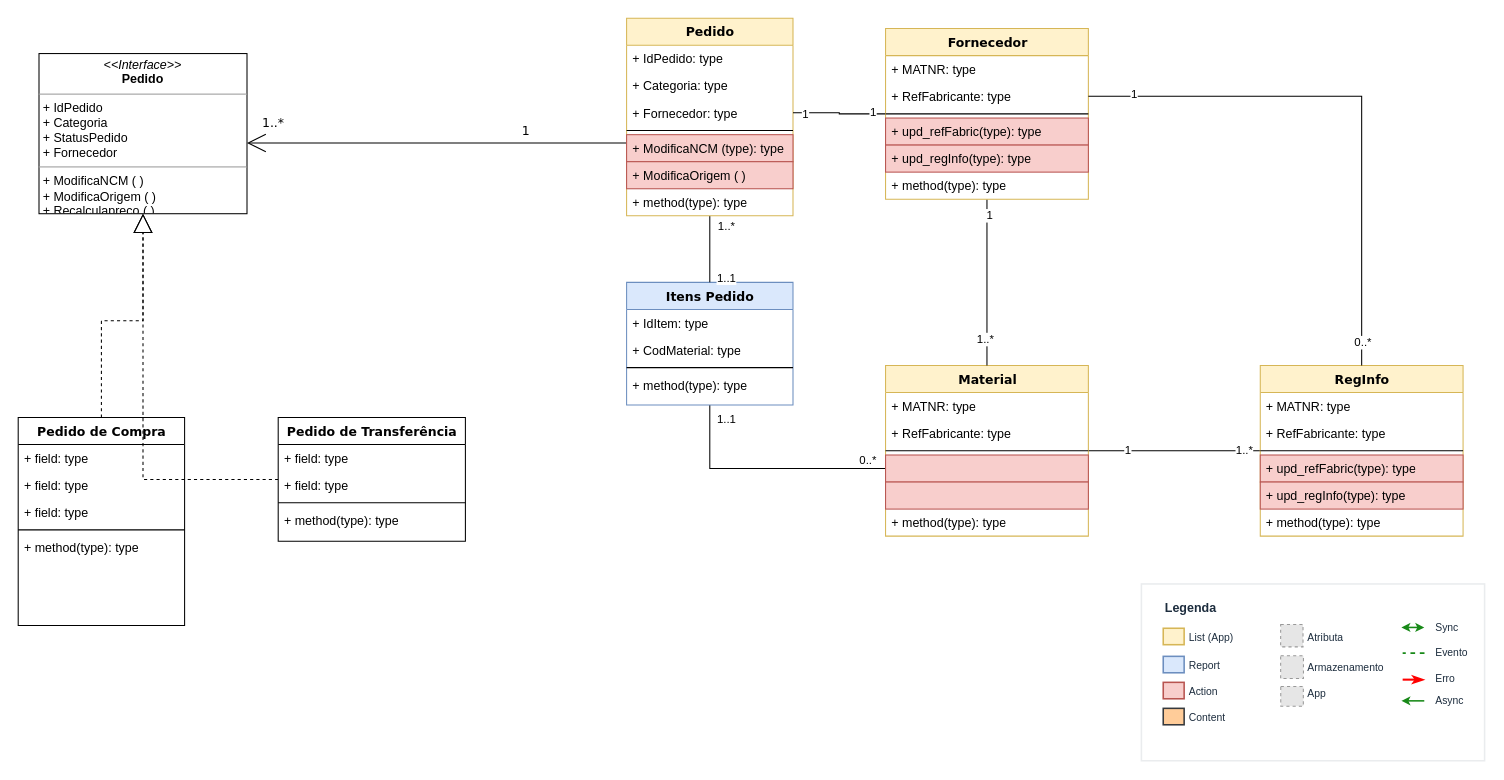
Some shapes in this 1504 by 780 pixel diagram are drawn without their labels. Grey dashed boxes stand in for pictures. Each missing label, with the centre of its shape:
"+ upd_NCM(type): type" goes at point 986,495.
"+ upd_origem(type): type" goes at point 986,468.
